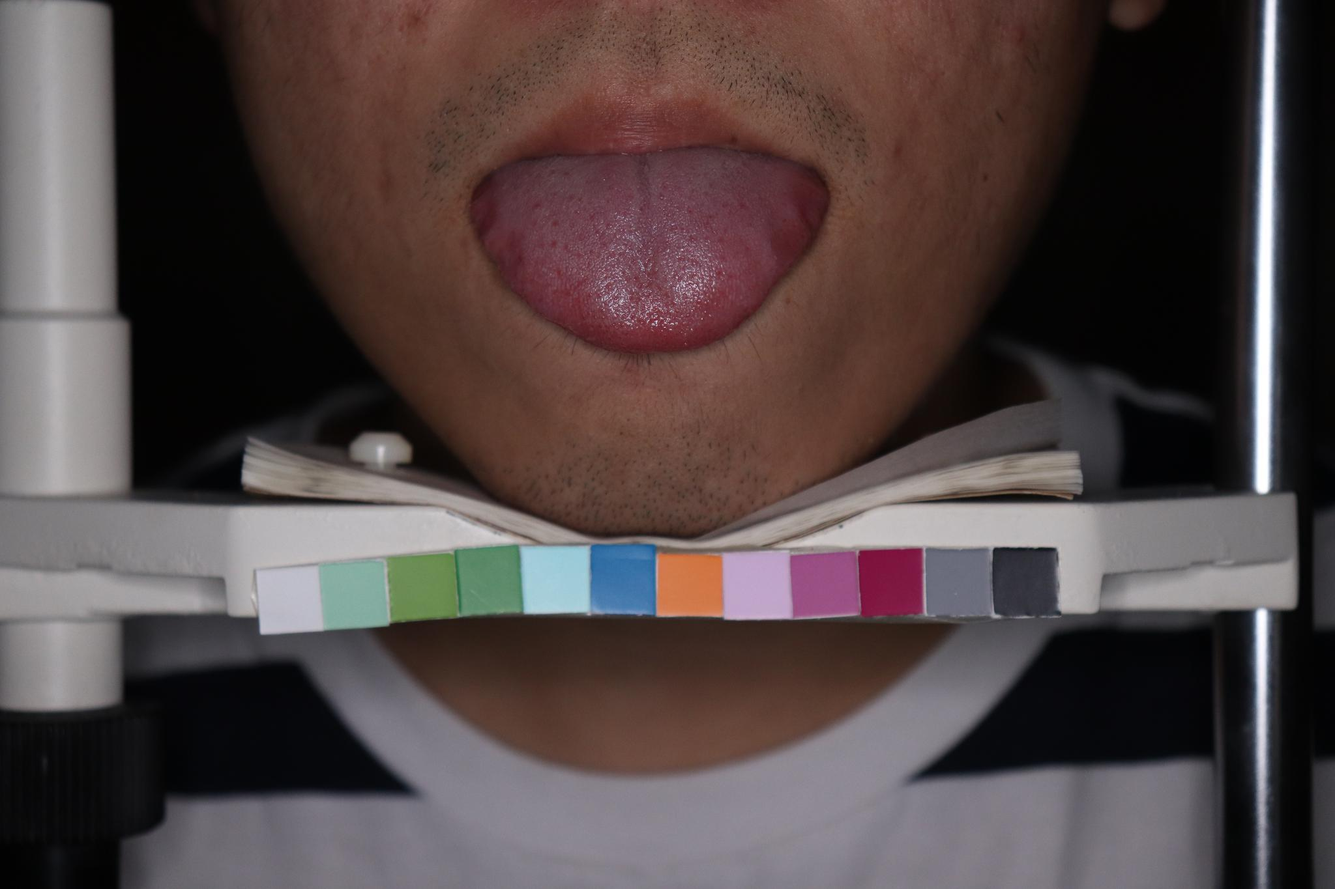baitaishe: (472, 150, 834, 352)
chihenshe: (484, 229, 529, 281), (473, 182, 499, 240)
hongdianshe: (548, 238, 559, 249), (550, 218, 559, 227)
hongshe: (472, 150, 834, 352)
